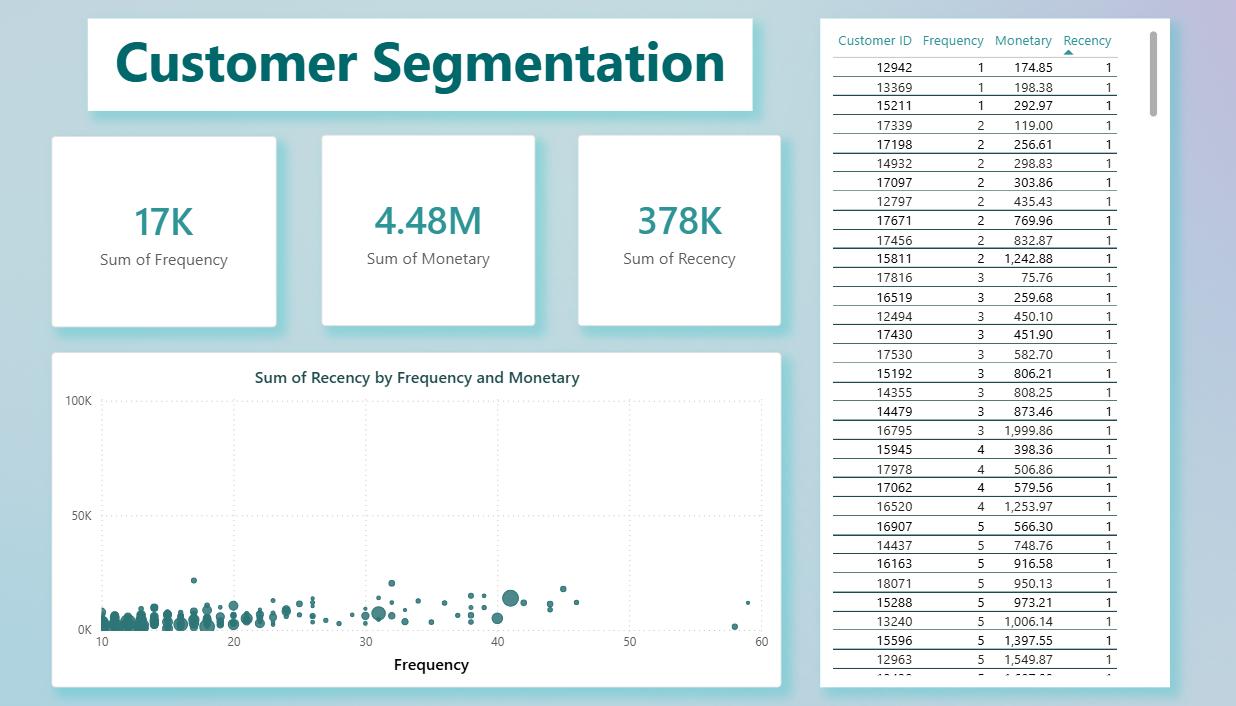

What the dashboard file says about the page in this screenshot:
{"tool":"powerbi","page":{"name":"Customer_Segmentation","canvas":[1280,720],"ordinal":2},"visuals":[{"type":"scatterChart","fields":{"X":["rfm_scores_.Frequency"],"Y":["rfm_scores_.Monetary"],"Size":["Sum(rfm_scores_.Recency)"]},"box":[72.1,359.5,726.5,333.4],"z":0},{"type":"tableEx","fields":{"Values":["rfm_scores_.Customer ID","rfm_scores_.Frequency","rfm_scores_.Monetary","rfm_scores_.Recency"]},"box":[837.2,27.4,348.3,665.5],"z":1000},{"type":"card","fields":{"Values":["Sum(rfm_scores_.Frequency)"]},"box":[72.1,144.3,223.9,190.3],"z":1001},{"type":"card","fields":{"Values":["Sum(rfm_scores_.Monetary)"]},"box":[340.8,143.1,212.7,190.3],"z":1002},{"type":"card","fields":{"Values":["Sum(rfm_scores_.Recency)"]},"box":[595.9,143.1,202.8,190.3],"z":1003},{"type":"textbox","box":[108.2,27.4,661.8,92.1],"z":1004}]}

Visuals, with their boxes in screenshot pixels (x1, y1, x2, y2), scaled from the page's 1280x720 canvas onto the 1236x706 screenshot:
scatterChart - rfm_scores_.Frequency x rfm_scores_.Monetary: l=70, t=353, r=771, b=679
tableEx - rfm_scores_.Customer ID x rfm_scores_.Frequency: l=808, t=27, r=1145, b=679
card - Sum(rfm_scores_.Frequency): l=70, t=141, r=286, b=328
card - Sum(rfm_scores_.Monetary): l=329, t=140, r=534, b=327
card - Sum(rfm_scores_.Recency): l=575, t=140, r=771, b=327
textbox: l=104, t=27, r=744, b=117
